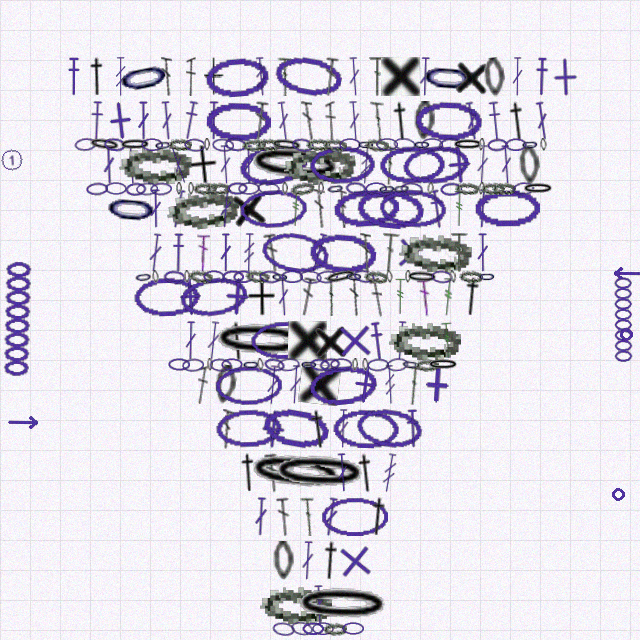chain: (245, 448, 346, 497), (245, 141, 346, 188), (270, 451, 369, 494), (211, 319, 310, 362), (293, 584, 392, 625), (165, 185, 241, 233), (259, 228, 332, 277), (272, 52, 344, 101), (260, 404, 331, 453), (237, 141, 309, 189), (178, 273, 249, 321), (354, 405, 425, 452), (282, 143, 357, 187), (307, 362, 378, 408), (401, 142, 470, 188), (355, 186, 425, 231), (308, 231, 377, 275), (378, 187, 448, 230), (399, 232, 472, 273), (119, 144, 192, 185), (204, 55, 271, 99), (332, 187, 400, 230), (114, 53, 174, 101), (239, 188, 307, 230), (260, 585, 332, 624), (389, 321, 461, 360), (215, 408, 283, 449), (250, 320, 318, 361), (133, 276, 201, 317), (414, 100, 482, 141), (332, 408, 399, 449), (215, 365, 283, 405), (309, 145, 376, 185), (379, 145, 446, 185), (205, 101, 271, 141), (321, 497, 388, 536), (474, 189, 540, 228), (103, 187, 160, 230), (420, 56, 476, 98), (213, 364, 238, 405), (518, 145, 541, 185), (483, 57, 506, 97), (273, 541, 294, 580), (414, 101, 435, 140), (324, 267, 358, 286), (88, 136, 121, 153), (270, 137, 303, 153), (406, 270, 438, 284), (290, 180, 315, 197), (427, 358, 459, 371), (522, 182, 554, 195), (119, 138, 151, 151), (452, 138, 484, 151), (290, 620, 314, 637), (352, 268, 376, 285), (188, 269, 213, 284), (245, 269, 270, 284), (272, 621, 295, 637), (263, 357, 286, 373), (299, 269, 322, 285), (291, 137, 314, 153), (277, 357, 300, 372), (386, 357, 409, 372), (257, 181, 280, 196), (512, 181, 535, 196), (74, 137, 97, 152), (103, 137, 126, 152), (224, 137, 247, 152), (393, 137, 416, 152), (438, 137, 461, 152), (323, 622, 347, 636), (415, 358, 439, 372), (364, 270, 388, 284), (242, 138, 266, 152), (323, 138, 347, 152), (365, 138, 389, 152), (319, 357, 341, 372), (345, 181, 367, 196), (209, 358, 232, 372), (163, 270, 186, 284), (400, 182, 423, 196), (459, 270, 483, 283), (193, 182, 217, 195), (206, 182, 230, 195), (455, 182, 479, 195), (481, 182, 505, 195), (492, 182, 516, 195), (168, 138, 192, 151), (256, 138, 280, 151), (306, 138, 330, 151), (182, 358, 204, 372), (309, 358, 331, 372), (367, 358, 389, 372), (259, 270, 281, 284), (316, 270, 338, 284), (431, 270, 453, 284), (86, 182, 108, 196), (125, 182, 147, 196), (136, 182, 158, 196), (150, 182, 172, 196), (440, 182, 462, 196), (184, 138, 206, 152), (212, 138, 234, 152), (487, 138, 508, 152), (302, 622, 324, 635), (312, 622, 334, 635), (342, 622, 364, 635), (168, 358, 190, 371), (221, 358, 243, 371), (330, 358, 352, 371), (203, 270, 225, 283), (222, 270, 244, 283), (281, 270, 303, 283), (105, 182, 127, 195), (238, 182, 260, 195), (365, 182, 387, 195), (141, 138, 163, 151), (339, 138, 361, 151), (376, 138, 398, 151), (421, 138, 443, 151), (505, 138, 527, 151), (401, 357, 420, 372), (326, 181, 345, 196), (392, 181, 411, 196), (233, 270, 254, 283), (227, 182, 248, 195), (134, 270, 153, 284), (271, 270, 289, 284), (378, 182, 396, 196), (154, 138, 172, 152), (242, 358, 260, 371), (300, 358, 318, 371), (345, 270, 363, 283), (478, 270, 496, 283), (357, 138, 375, 151), (413, 138, 431, 151), (521, 138, 539, 151), (449, 270, 457, 283), (257, 358, 264, 371), (362, 358, 369, 371), (152, 270, 159, 283), (386, 270, 393, 283), (427, 182, 434, 195), (478, 182, 485, 195), (478, 138, 485, 151), (540, 138, 547, 151), (207, 358, 213, 371), (352, 358, 358, 371), (184, 270, 190, 283), (405, 270, 411, 283), (176, 182, 182, 195), (188, 182, 194, 195), (282, 182, 288, 195), (318, 182, 324, 195), (204, 138, 210, 151)
double: (166, 144, 191, 185), (307, 232, 330, 273), (380, 233, 400, 273), (298, 277, 317, 317), (263, 233, 282, 273), (169, 189, 188, 229), (322, 497, 340, 537), (404, 365, 422, 405), (463, 101, 481, 141), (533, 101, 551, 141), (264, 453, 281, 493), (205, 321, 222, 361), (369, 277, 386, 317), (147, 233, 164, 273), (381, 145, 398, 185), (252, 101, 269, 141), (275, 101, 292, 141), (322, 57, 339, 97), (451, 233, 468, 272), (369, 57, 386, 96), (276, 497, 292, 537), (218, 409, 234, 449), (265, 365, 281, 405), (417, 277, 433, 317), (393, 321, 409, 360), (218, 189, 234, 228), (159, 101, 175, 140), (370, 101, 386, 140), (300, 541, 315, 580), (300, 497, 315, 536), (335, 453, 350, 492), (195, 365, 210, 404), (288, 365, 303, 404), (276, 277, 291, 316), (124, 145, 139, 184), (218, 145, 233, 184), (475, 145, 490, 184), (499, 145, 514, 184), (347, 101, 362, 140), (347, 57, 362, 96), (312, 585, 326, 624), (254, 497, 268, 536), (336, 409, 350, 448), (324, 277, 338, 316), (196, 233, 210, 272), (102, 145, 116, 184), (301, 101, 315, 140), (277, 57, 291, 96), (418, 57, 432, 96), (184, 321, 197, 360), (219, 233, 232, 272), (476, 233, 489, 272), (149, 189, 162, 228), (242, 145, 255, 184), (137, 101, 150, 140), (511, 57, 524, 96), (325, 101, 337, 140), (349, 277, 360, 316), (360, 233, 371, 272), (314, 189, 325, 228), (337, 189, 348, 228), (161, 57, 172, 96), (186, 57, 196, 96)
enseble_chain: (1, 261, 33, 378), (613, 277, 633, 363)
half_double: (365, 496, 391, 537), (459, 276, 485, 317), (318, 540, 343, 581), (306, 409, 331, 449), (505, 101, 530, 141), (354, 453, 378, 493), (389, 101, 413, 141), (226, 321, 249, 361), (237, 453, 260, 492), (180, 100, 201, 141), (86, 57, 108, 96), (427, 189, 447, 229), (368, 321, 387, 361), (486, 101, 504, 141), (474, 189, 491, 228), (405, 409, 421, 448), (89, 101, 105, 140), (171, 233, 186, 272), (206, 101, 221, 140), (66, 57, 81, 96), (534, 57, 549, 96)
noise: (0, 147, 25, 173), (7, 416, 40, 429), (611, 267, 640, 279), (610, 486, 626, 502), (619, 327, 634, 342)
single: (298, 363, 341, 406), (344, 363, 387, 406), (99, 99, 142, 142), (334, 540, 376, 582), (252, 408, 294, 450), (392, 232, 434, 274), (229, 187, 269, 230), (416, 364, 457, 405), (334, 320, 375, 361), (170, 276, 211, 317), (217, 276, 258, 317), (439, 144, 480, 185), (545, 57, 585, 97), (288, 321, 327, 360), (381, 57, 420, 96), (453, 57, 491, 97), (312, 321, 349, 361), (186, 144, 219, 185), (246, 277, 276, 316), (204, 57, 224, 96)
treble: (380, 453, 399, 493), (440, 277, 456, 317), (358, 145, 374, 184), (253, 57, 269, 96), (440, 321, 455, 360), (383, 365, 397, 404), (242, 233, 256, 272), (289, 189, 303, 228), (394, 277, 407, 316), (453, 189, 466, 228), (114, 57, 127, 96)
